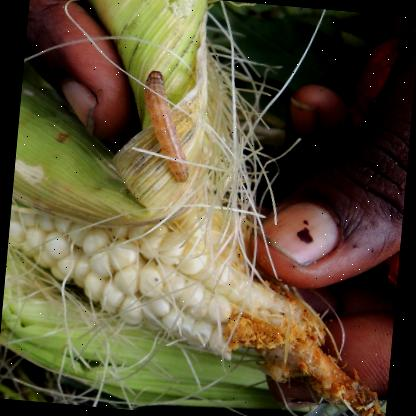Asian Corn Borer Larvae: (131, 66, 203, 188)
